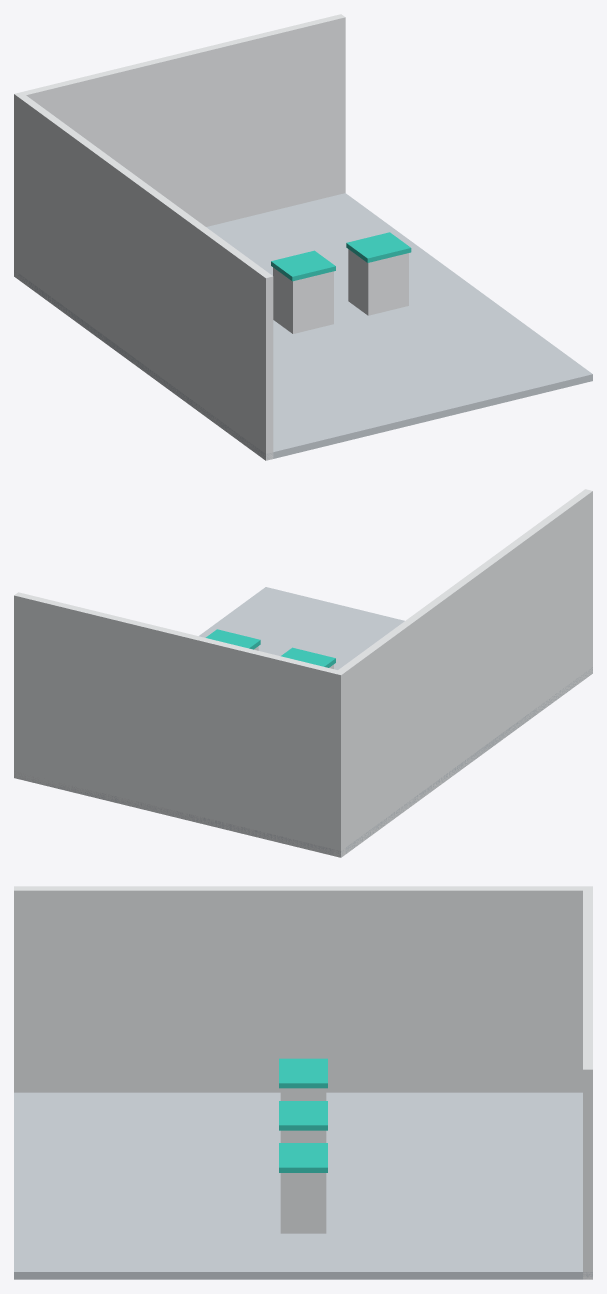
3 views of the same model, one above another, from view 1: azimuth 30°, elevation 25°; view 2: azimuth 150°, elevation 25°; view 3: azimuth 270°, elevation 25° (orthographic). The views are drawn at different scales.
Parts seen in each view (by area): view 1: Exhibition Booth Concept; view 2: Exhibition Booth Concept; view 3: Exhibition Booth Concept.
Part boxes in pixels (x1,y1,x2,y2): Exhibition Booth Concept: [14, 14, 592, 460]; Exhibition Booth Concept: [14, 489, 592, 857]; Exhibition Booth Concept: [14, 886, 592, 1279].
Bounding box in the file's own units: 6 × 3.2 × 8.
